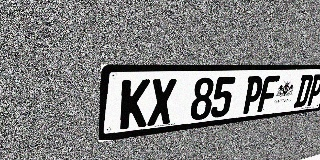5: (210, 77, 236, 118)
8: (189, 77, 216, 121)
D: (293, 74, 314, 108)
F: (257, 75, 280, 112)
K: (119, 79, 150, 130)
P: (241, 76, 265, 114), (305, 74, 320, 106)
X: (147, 78, 177, 126)
